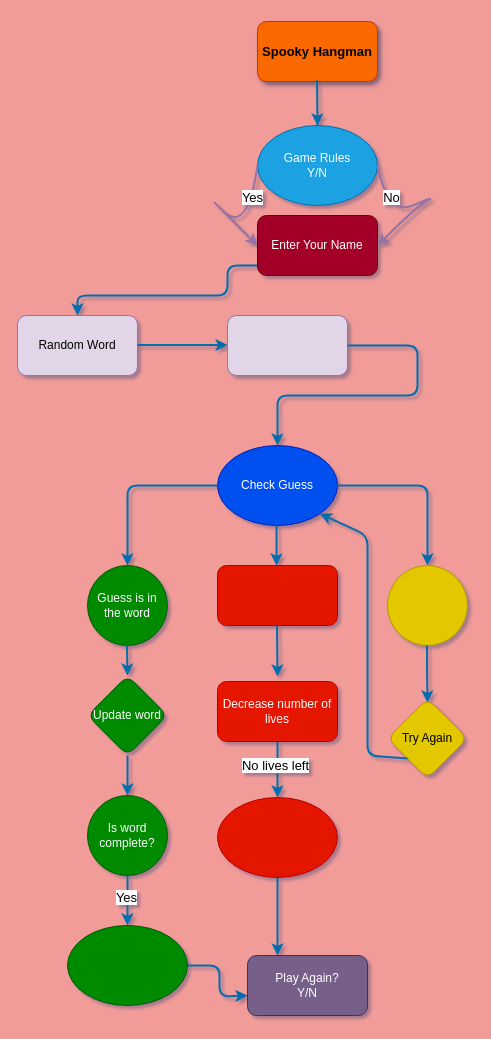
The diagram is 491 pixels wide and 1039 high, and some of its shapes have lost their labels. Each missing label, with the centre of its shape:
Display Hangman Stage (initial ): (x=287, y=345)
Game over: (x=277, y=837)
Guess is not in the word: (x=277, y=595)
Invalid Guess: (x=427, y=605)
Victory: (x=127, y=965)
